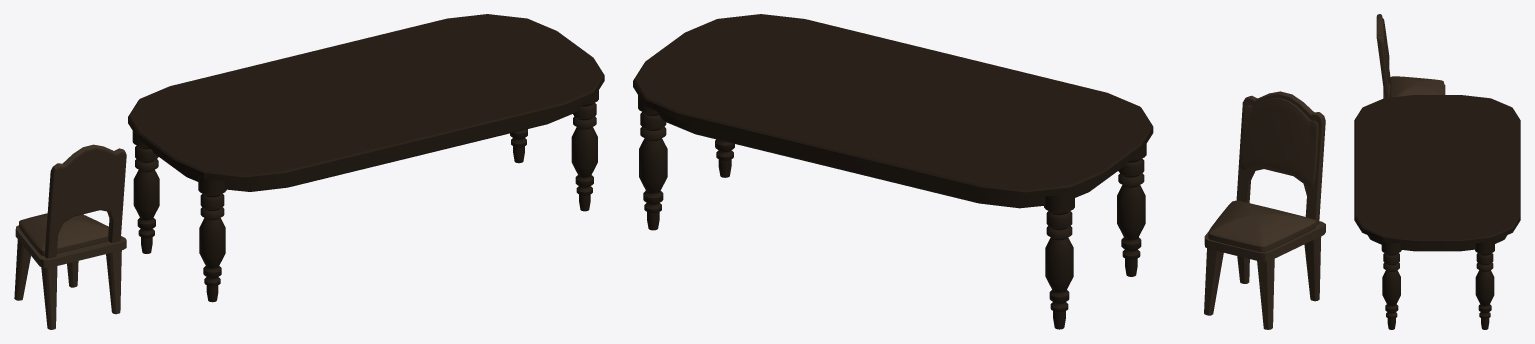
Rendered from EL_Dining_Room_Furnature_Unwrapped.fbx.
3 renders of one model, left to right at view 1: azimuth 30°, elevation 25°; view 2: azimuth 150°, elevation 25°; view 3: azimuth 270°, elevation 25°, orthographic. The views are drawn at different scales.
Parts seen in each view (by area): view 1: EL_Table_Chair:pCube1, EL_Table_Chair:polySurface1, EL_Table_Chair:pCube2, EL_Table_Chair:Desk_Leg6, EL_Table_Chair:Desk_Leg5, EL_Table_Chair:Desk_Leg7, EL_Table_Chair:pCube10, EL_Table_Chair:pCube3, EL_Table_Chair:pCube6, EL_Table_Chair:pCube7, EL_Table_Chair:pCube9, EL_Table_Chair:Desk_Leg4; view 2: EL_Table_Chair:pCube1, EL_Table_Chair:pCube11, EL_Table_Chair:pCube2, EL_Table_Chair:pCube10, EL_Table_Chair:Desk_Leg5, EL_Table_Chair:Desk_Leg4, EL_Table_Chair:Desk_Leg6, EL_Table_Chair:polySurface1, EL_Table_Chair:pCube3, EL_Table_Chair:pCube9, EL_Table_Chair:pCube8, EL_Table_Chair:pCube6 (+1 smaller); view 3: EL_Table_Chair:pCube1, EL_Table_Chair:Desk_Leg4, EL_Table_Chair:Desk_Leg7, EL_Table_Chair:pCube10, EL_Table_Chair:pCube2, EL_Table_Chair:polySurface1, EL_Table_Chair:pCube11.
Boxes of the visible parts, left/top/right/bottom form: EL_Table_Chair:pCube1: left=128, top=14, right=604, bottom=183; EL_Table_Chair:polySurface1: left=44, top=144, right=126, bottom=258; EL_Table_Chair:pCube2: left=152, top=103, right=582, bottom=191; EL_Table_Chair:Desk_Leg6: left=198, top=176, right=226, bottom=302; EL_Table_Chair:Desk_Leg5: left=132, top=131, right=159, bottom=253; EL_Table_Chair:Desk_Leg7: left=571, top=90, right=598, bottom=211; EL_Table_Chair:pCube10: left=19, top=213, right=108, bottom=255; EL_Table_Chair:pCube3: left=15, top=225, right=126, bottom=267; EL_Table_Chair:pCube6: left=41, top=266, right=57, bottom=329; EL_Table_Chair:pCube7: left=106, top=250, right=121, bottom=314; EL_Table_Chair:pCube9: left=14, top=239, right=30, bottom=300; EL_Table_Chair:Desk_Leg4: left=510, top=129, right=527, bottom=163; EL_Table_Chair:pCube1: left=633, top=14, right=1153, bottom=198; EL_Table_Chair:pCube11: left=1240, top=98, right=1318, bottom=186; EL_Table_Chair:pCube2: left=657, top=111, right=1126, bottom=208; EL_Table_Chair:pCube10: left=1208, top=200, right=1315, bottom=251; EL_Table_Chair:Desk_Leg5: left=1044, top=192, right=1074, bottom=329; EL_Table_Chair:Desk_Leg4: left=638, top=95, right=667, bottom=230; EL_Table_Chair:Desk_Leg6: left=1117, top=144, right=1146, bottom=276; EL_Table_Chair:polySurface1: left=1236, top=91, right=1325, bottom=225; EL_Table_Chair:pCube3: left=1204, top=221, right=1325, bottom=261; EL_Table_Chair:pCube9: left=1257, top=259, right=1274, bottom=329; EL_Table_Chair:pCube8: left=1204, top=248, right=1223, bottom=315; EL_Table_Chair:pCube6: left=1304, top=236, right=1321, bottom=301; EL_Table_Chair:pCube1: left=1354, top=95, right=1520, bottom=244; EL_Table_Chair:Desk_Leg4: left=1475, top=240, right=1494, bottom=329; EL_Table_Chair:Desk_Leg7: left=1381, top=241, right=1401, bottom=329; EL_Table_Chair:pCube10: left=1390, top=76, right=1444, bottom=97; EL_Table_Chair:pCube2: left=1367, top=235, right=1507, bottom=251; EL_Table_Chair:polySurface1: left=1376, top=14, right=1390, bottom=98; EL_Table_Chair:pCube11: left=1381, top=18, right=1389, bottom=80.
Size of the model in its own units: 22 by 7.09 by 7.83.
